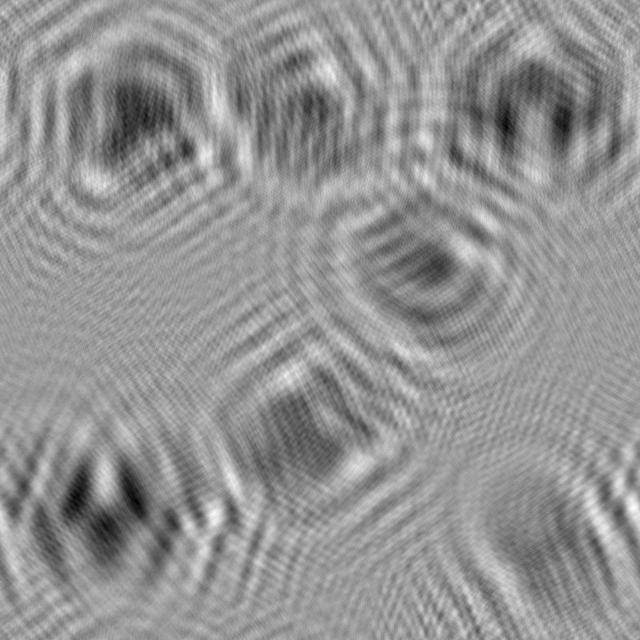A: (0, 0, 237, 253)
I: (421, 400, 640, 640)
J: (280, 130, 549, 394)
L: (190, 0, 424, 209)
M: (401, 0, 640, 236)
T: (170, 283, 453, 558)
W: (0, 392, 261, 640)
